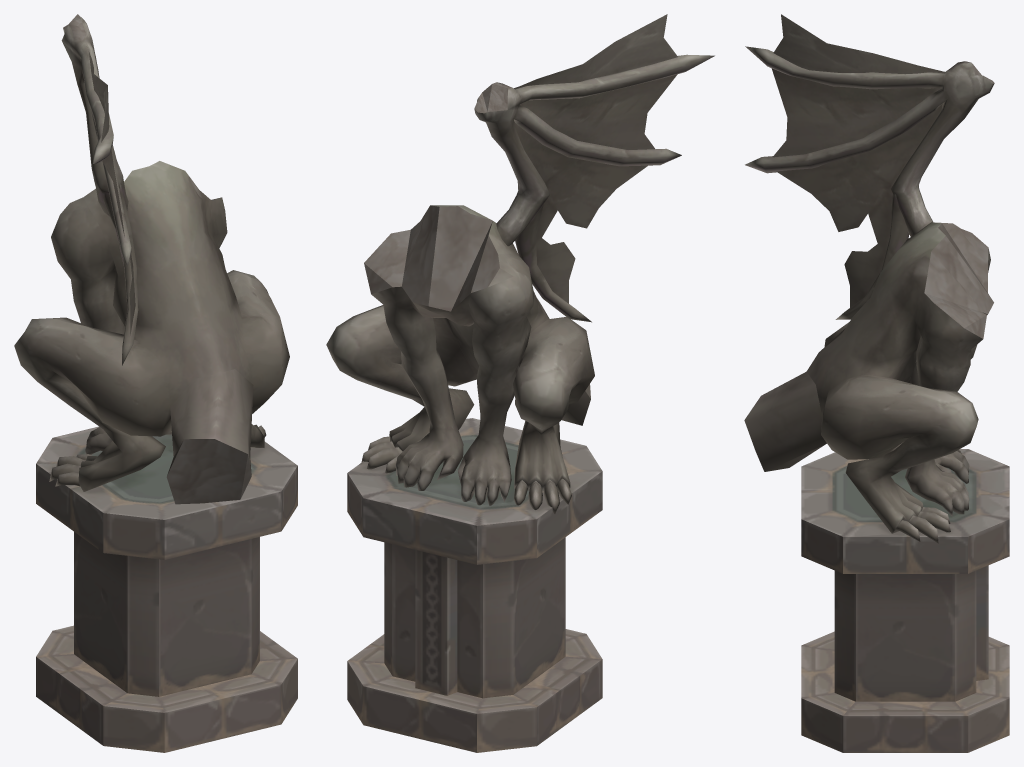
The model's file is sc_dungeon_moshenta_diaoxiang_003_b.FBX.
3 renders of one model, left to right at view 1: azimuth 30°, elevation 25°; view 2: azimuth 150°, elevation 25°; view 3: azimuth 270°, elevation 25°, orthographic. The views are drawn at different scales.
Visible parts, largest first — view 1: sc_dungeon_moshenta_diaoxiang_003_b; view 2: sc_dungeon_moshenta_diaoxiang_003_b; view 3: sc_dungeon_moshenta_diaoxiang_003_b.
Part boxes in pixels (<box>): sc_dungeon_moshenta_diaoxiang_003_b: <box>14,14,297,752</box>; sc_dungeon_moshenta_diaoxiang_003_b: <box>326,14,714,752</box>; sc_dungeon_moshenta_diaoxiang_003_b: <box>744,14,1009,752</box>.
Size of the model in its own units: 3.43 by 3.03 by 8.
Materials: 1 (1 with a texture image).
